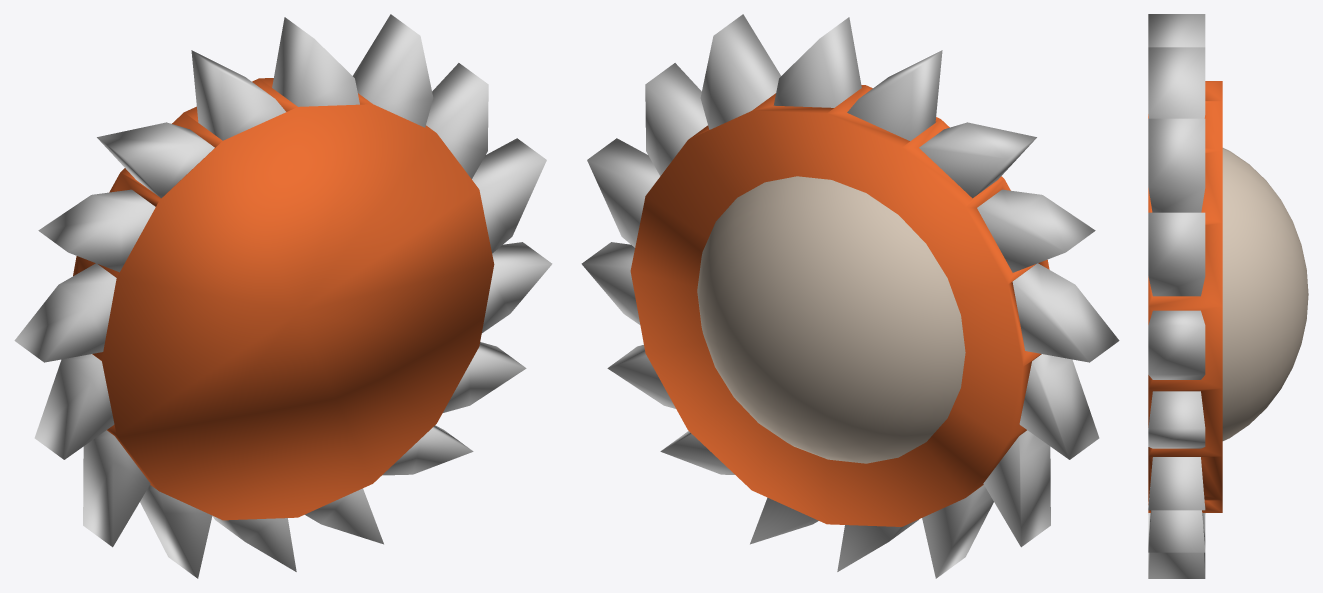
The model's file is enemyShip.fbx.
3 renders of one model, left to right at view 1: azimuth 30°, elevation 25°; view 2: azimuth 150°, elevation 25°; view 3: azimuth 270°, elevation 25°, orthographic. The views are drawn at different scales.
Parts seen in each view (by area): view 1: EnemyShip; view 2: EnemyShip; view 3: EnemyShip.
Part boxes in pixels (box(x1,y1,x2,y2)): EnemyShip: box(14, 14, 552, 578); EnemyShip: box(581, 14, 1119, 578); EnemyShip: box(1148, 14, 1308, 578).
Size of the model in its own units: 2.59 by 2.58 by 0.7405.
